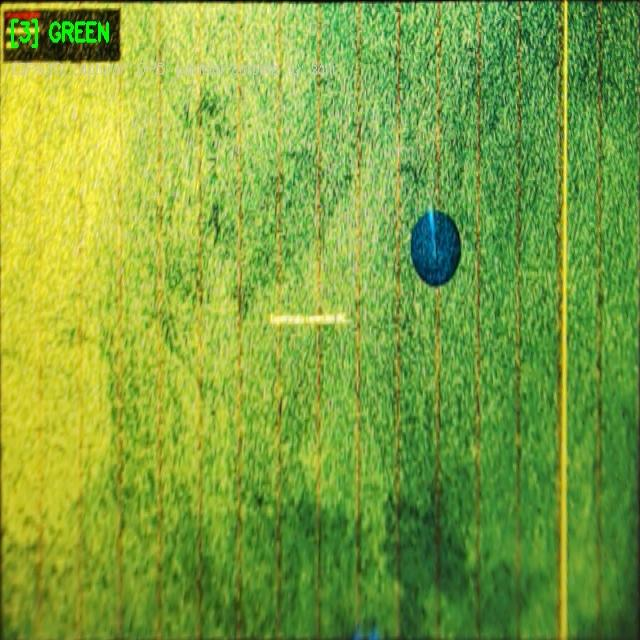green: (407, 209, 463, 290)
